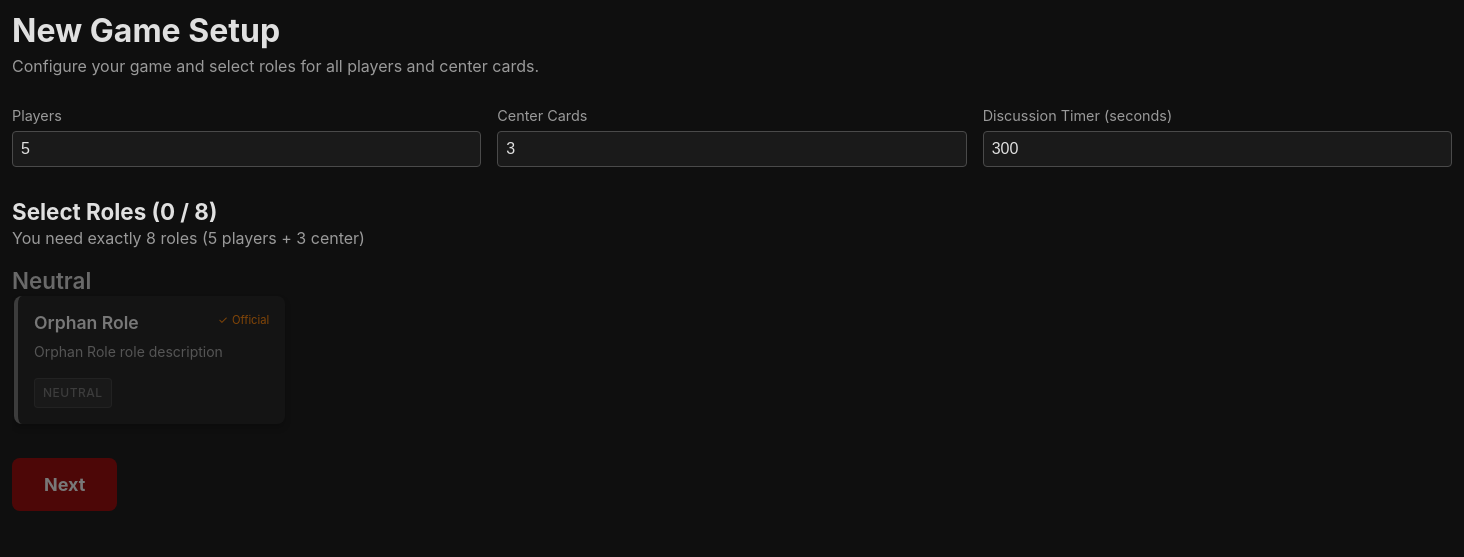
Test: GameSetupPage › dependency auto-selection › silently skips dependency when required role is not in fetched list
What coordinates should you click on to do the following:
click the text "Orphan Role"
I would click on:
 (150, 360)
Its box is [12, 294, 287, 426].
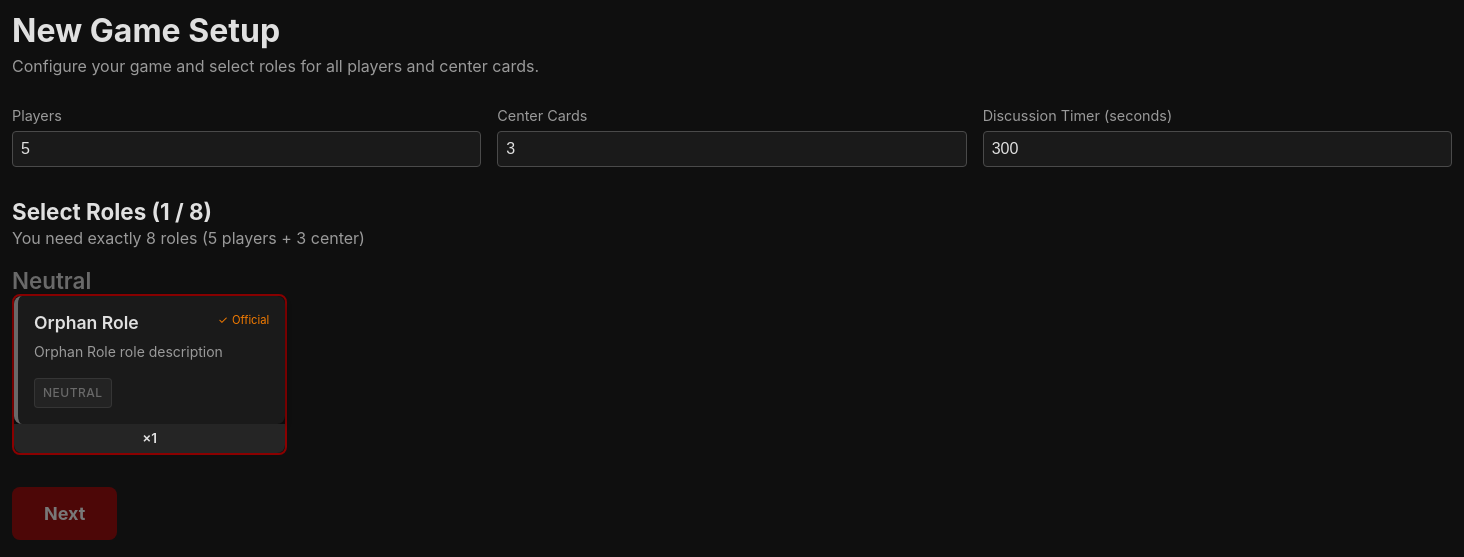
Check: the heading "Select Roles (1 / 8)" is shown, box [12, 198, 212, 225]
